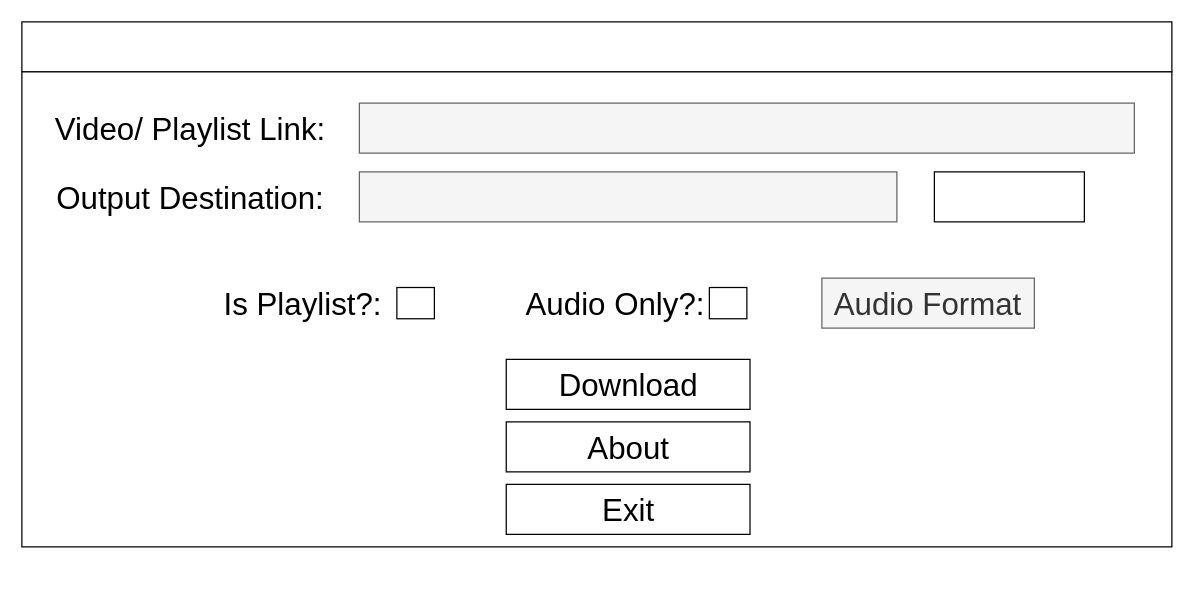
Some shapes in this 1194 by 606 pixel diagram are drawn without their labels. The shapes that lost their labels are listed below. From the top down, each one's box as (x1, y1, x2, y2) in pixels, then its label:
(21, 21, 1172, 72): YTDL GUI
(933, 171, 1084, 222): Browse
